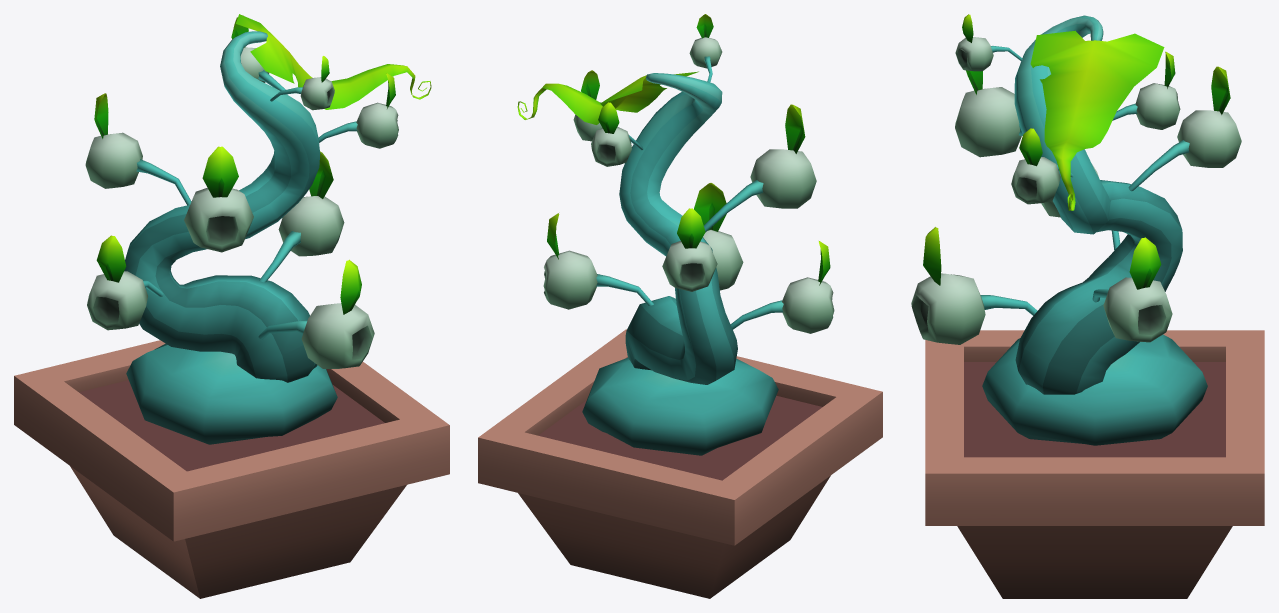
The model's file is wp_wPot_11.fbx.
3 views of the same model, side by side, from view 1: azimuth 30°, elevation 25°; view 2: azimuth 150°, elevation 25°; view 3: azimuth 270°, elevation 25° (orthographic). The views are drawn at different scales.
Visible parts, largest first — view 1: w_pl11; view 2: w_pl11; view 3: w_pl11.
Boxes of the visible parts, box(x1,y1,x2,y2) form: w_pl11: box(14, 14, 449, 598); w_pl11: box(478, 14, 882, 598); w_pl11: box(911, 14, 1264, 598).
Bounding box in the file's own units: 136 × 201 × 115.
